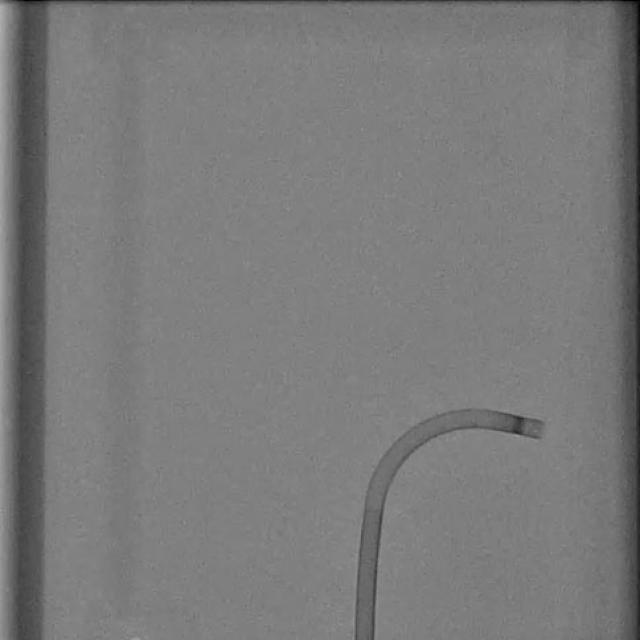bend: (364, 493, 386, 512)
entry: (354, 634, 375, 640)
marker: (510, 413, 527, 437)
tip: (534, 420, 547, 441)
